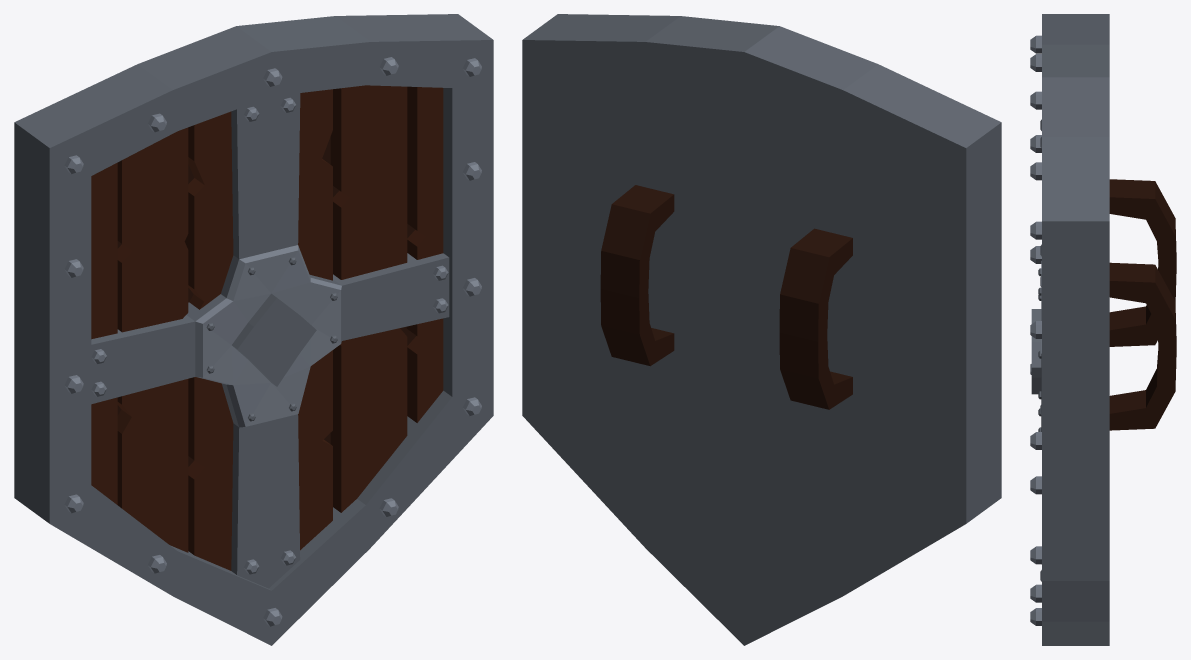
File: Shield_Heater.obj
3 views of the same model, side by side, from view 1: azimuth 30°, elevation 25°; view 2: azimuth 150°, elevation 25°; view 3: azimuth 270°, elevation 25° (orthographic). The views are drawn at different scales.
Parts seen in each view (by area): view 1: Shield_Heater; view 2: Shield_Heater; view 3: Shield_Heater.
Boxes of the visible parts, x1,y1,x2,y2 form: Shield_Heater: (14,14,493,645); Shield_Heater: (522,14,1001,645); Shield_Heater: (1030,14,1176,645).
Size of the model in its own units: 2.01 by 2.56 by 0.597.
